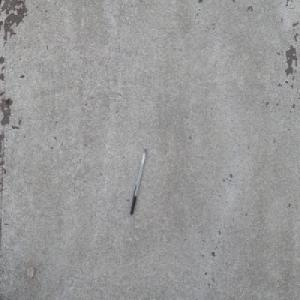Pen: (129, 147, 146, 215)
